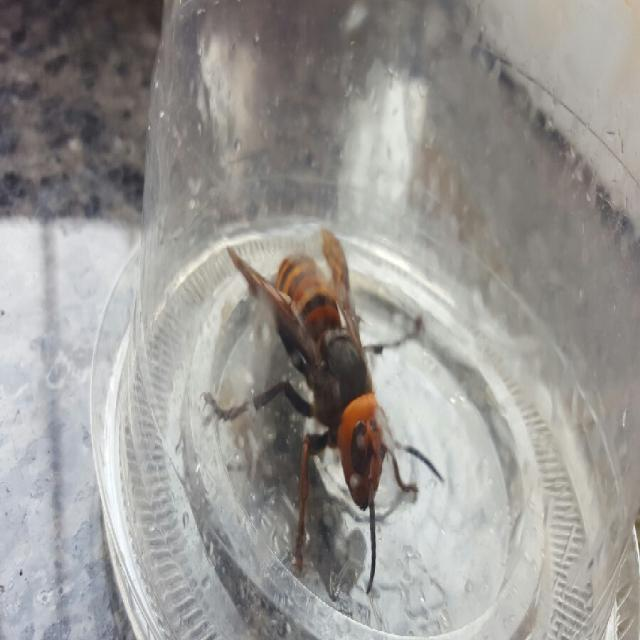Wasp: (193, 212, 449, 590)
